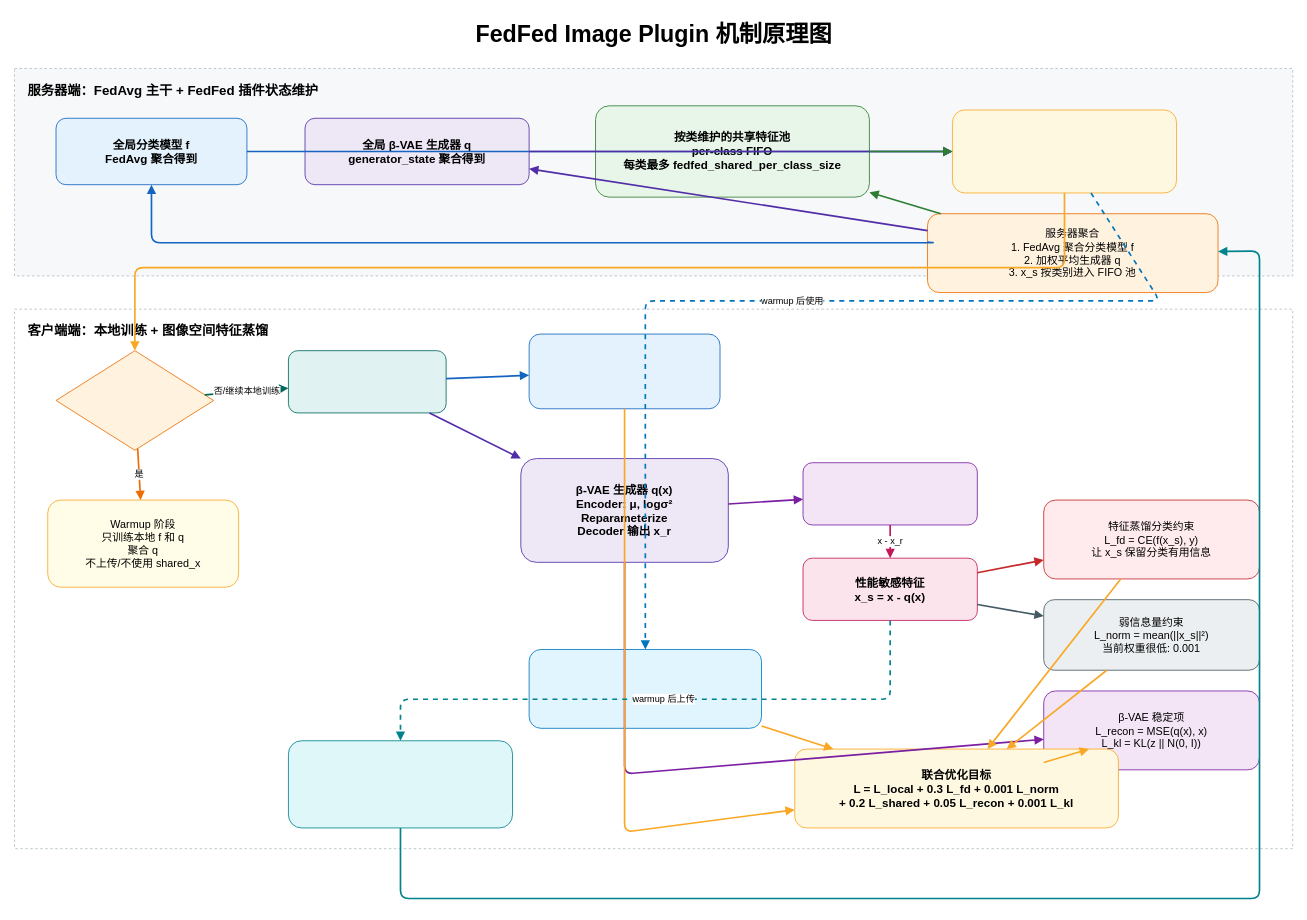
Image size: 1307x920. Some labels were removed from this diagram. Here are the shapes that lost their labels. From the top down, the centre of each, then its label:
the point at 1064,151: 广播给客户端 global weights generator_state shared_x, shared_y
the point at 367,381: 本地数据 batch x, y
the point at 624,371: 正常分类路径 pred = f(x) L_local = CE(pred, y)
the point at 134,400: 当前轮次 < hard warmup?
the point at 889,493: 性能鲁棒/重构部分 x_r = q(x)
the point at 645,688: 共享特征辅助分类 从 shared_x, shared_y 采样 L_shared = CE(f(shared_x), shared_y)
the point at 400,784: 客户端上传 aux payload generator_state sensitive_x = x_s sensitive_y = y
